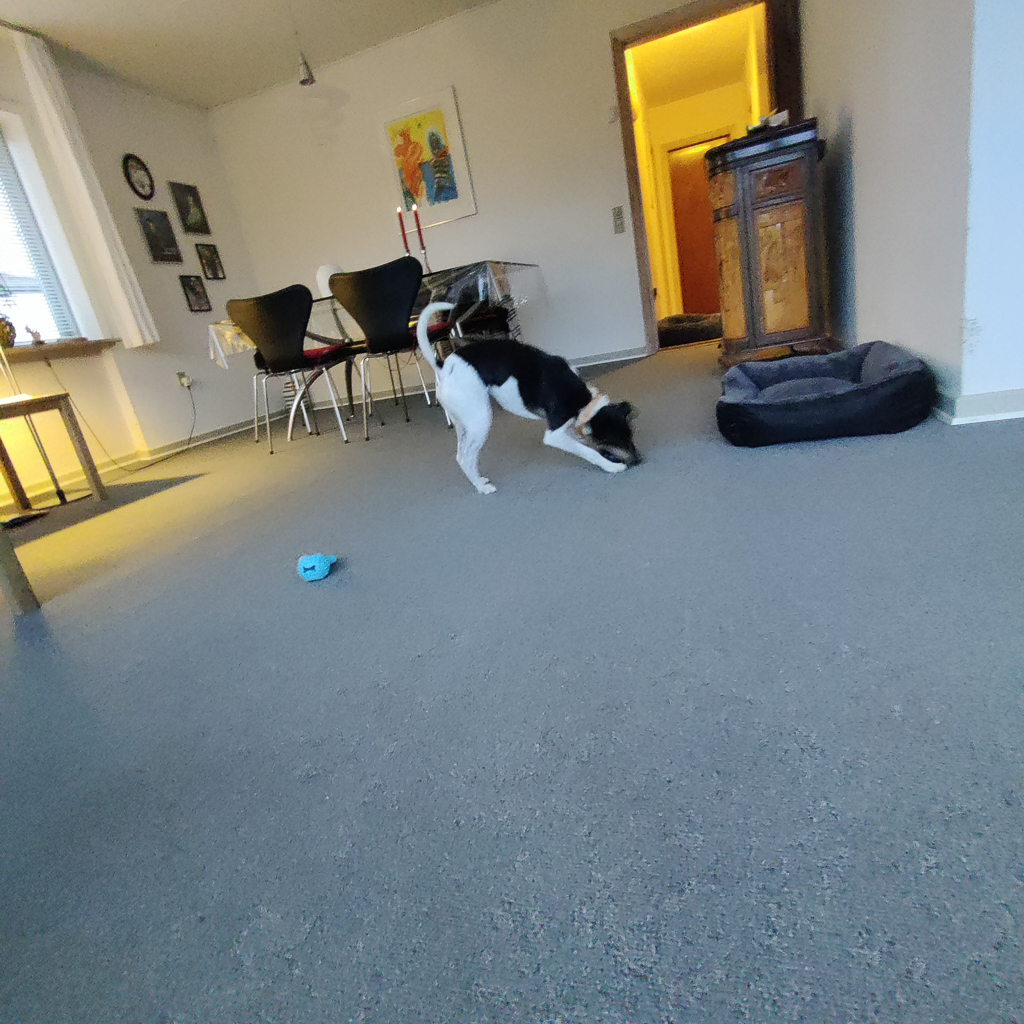Dog: (404, 296, 664, 501)
